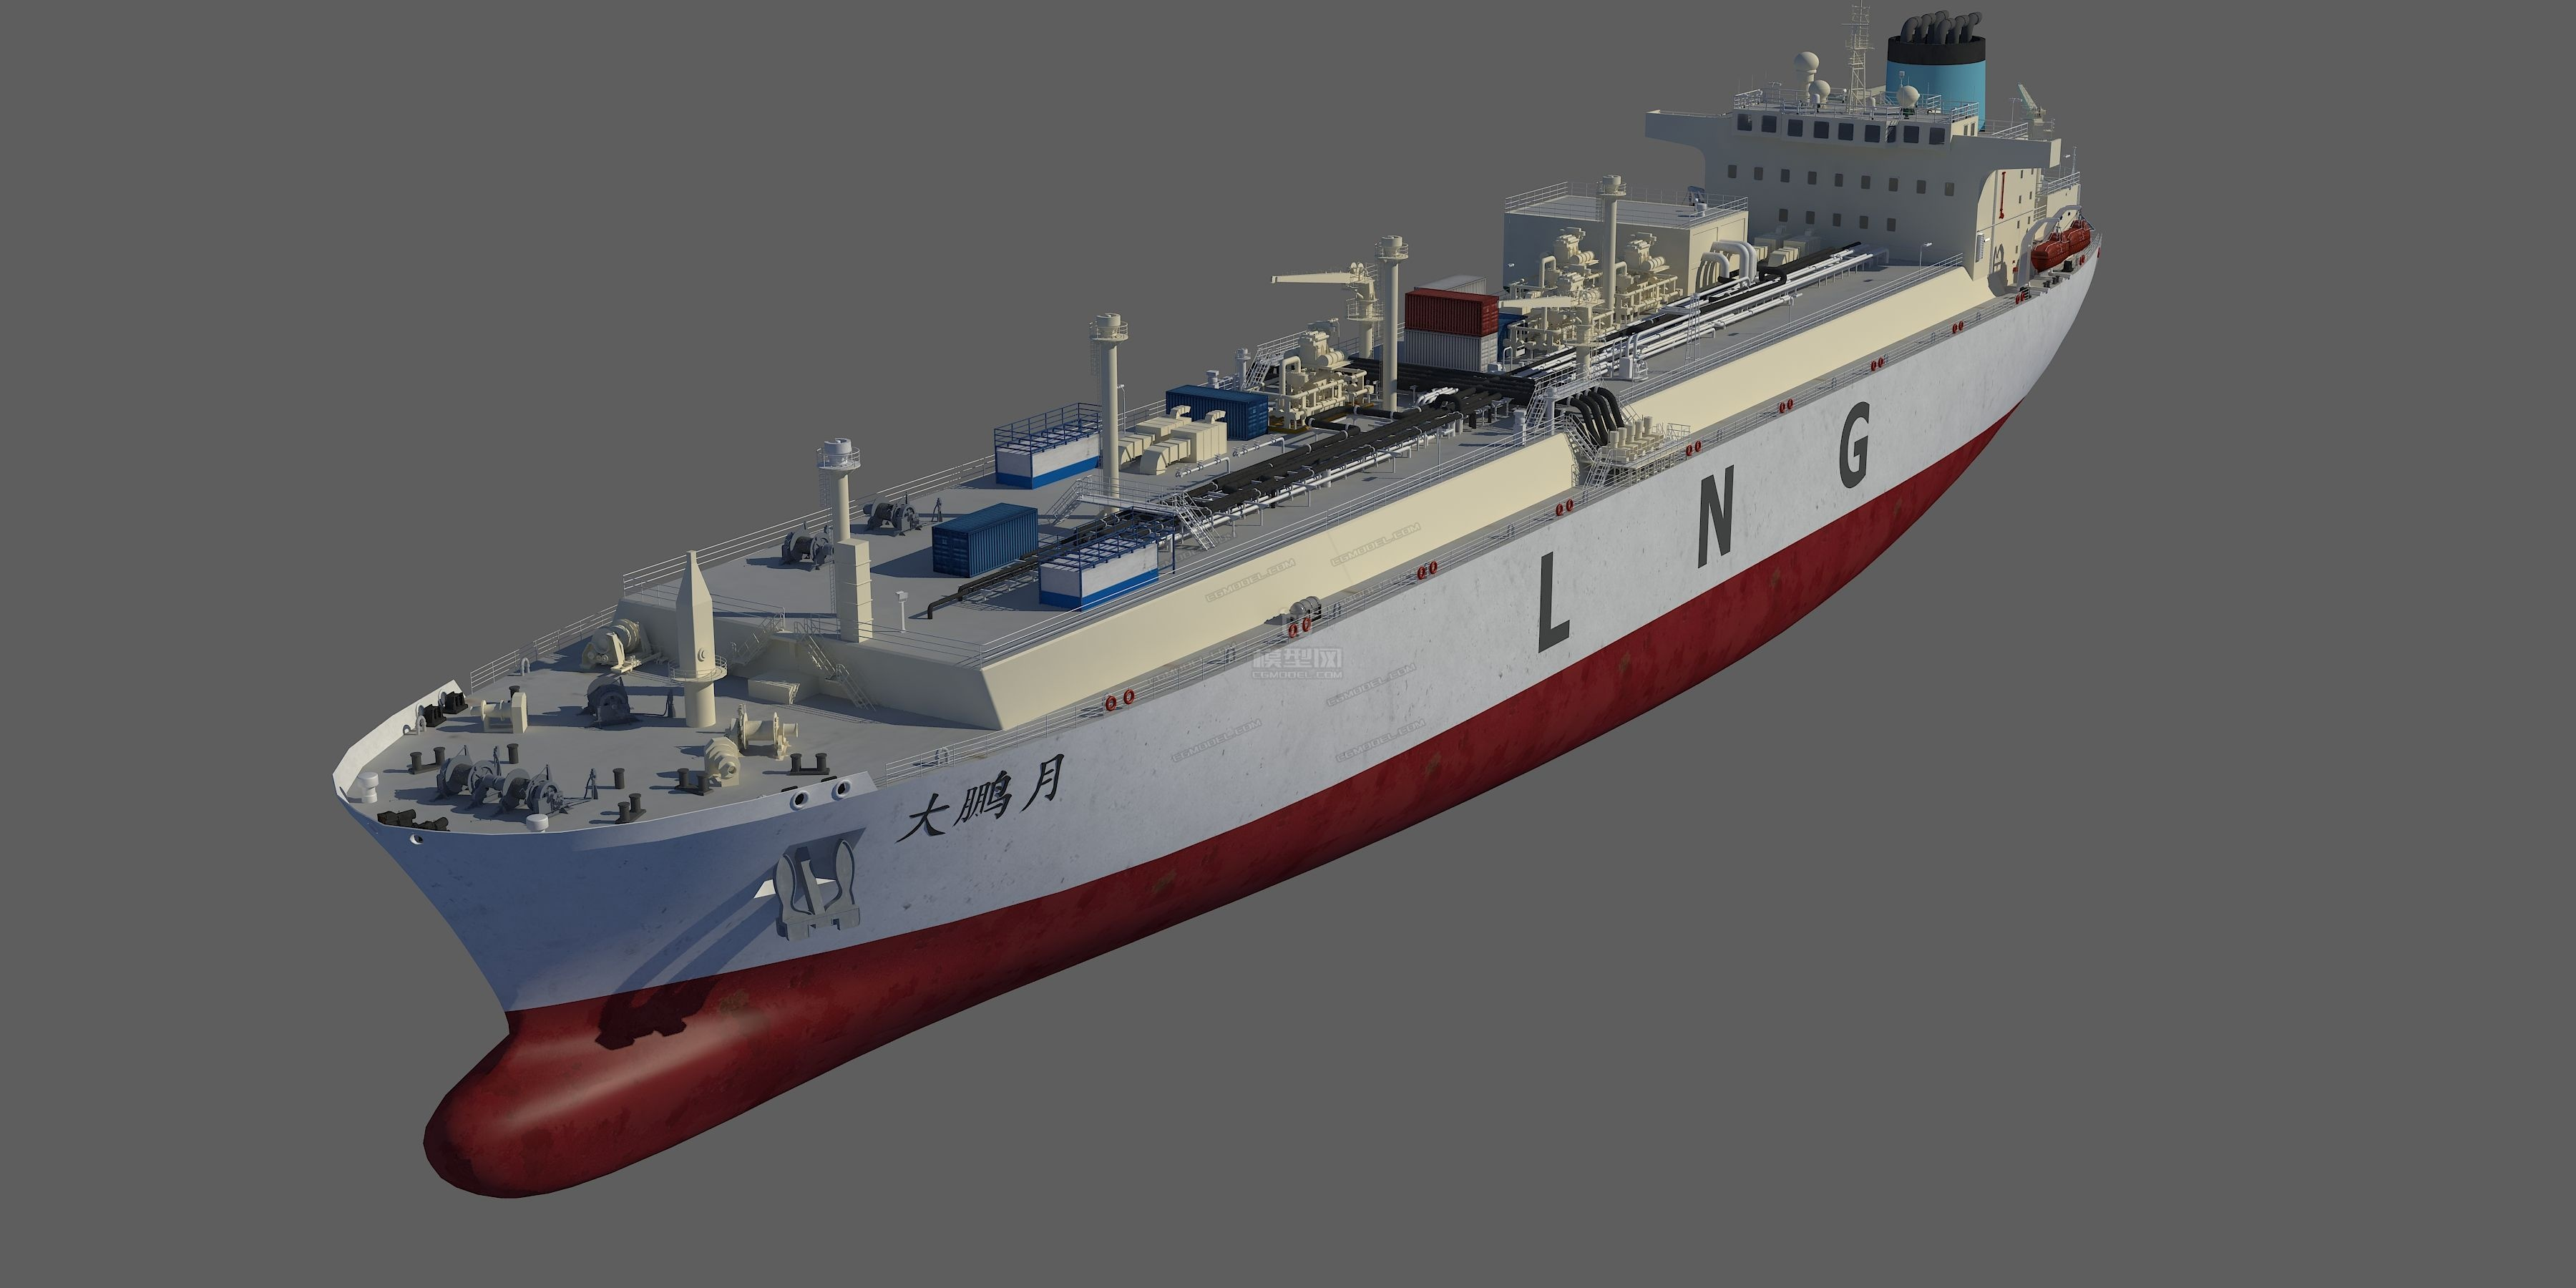Cargoship: (315, 10, 2106, 1212)
